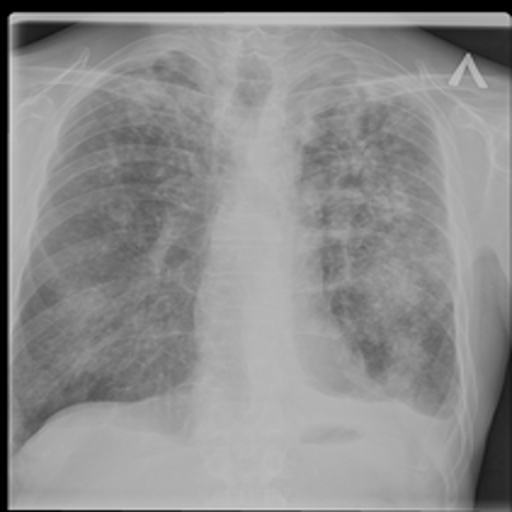TB: (53, 63, 205, 342), (314, 92, 437, 340)
